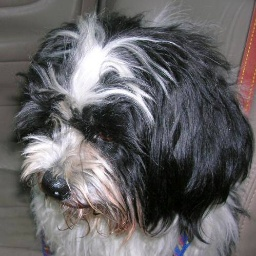dog: (12, 15, 250, 250)
